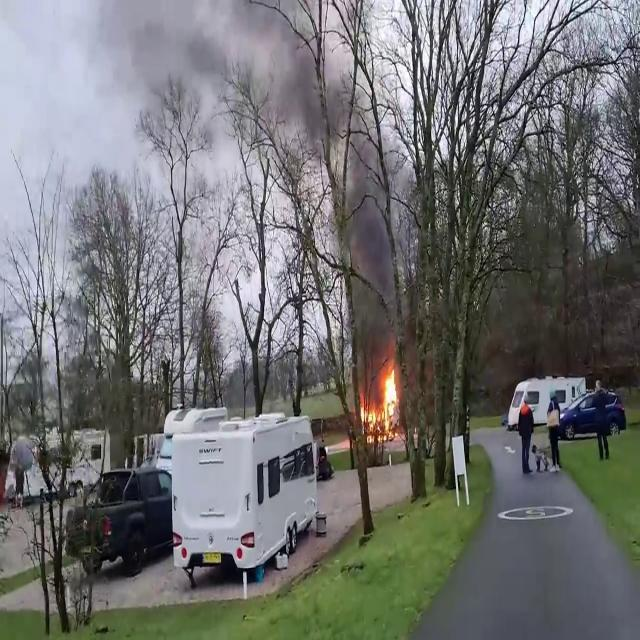Fire: (81, 5, 362, 154), (360, 357, 402, 443)
Smoke: (268, 4, 406, 348)
